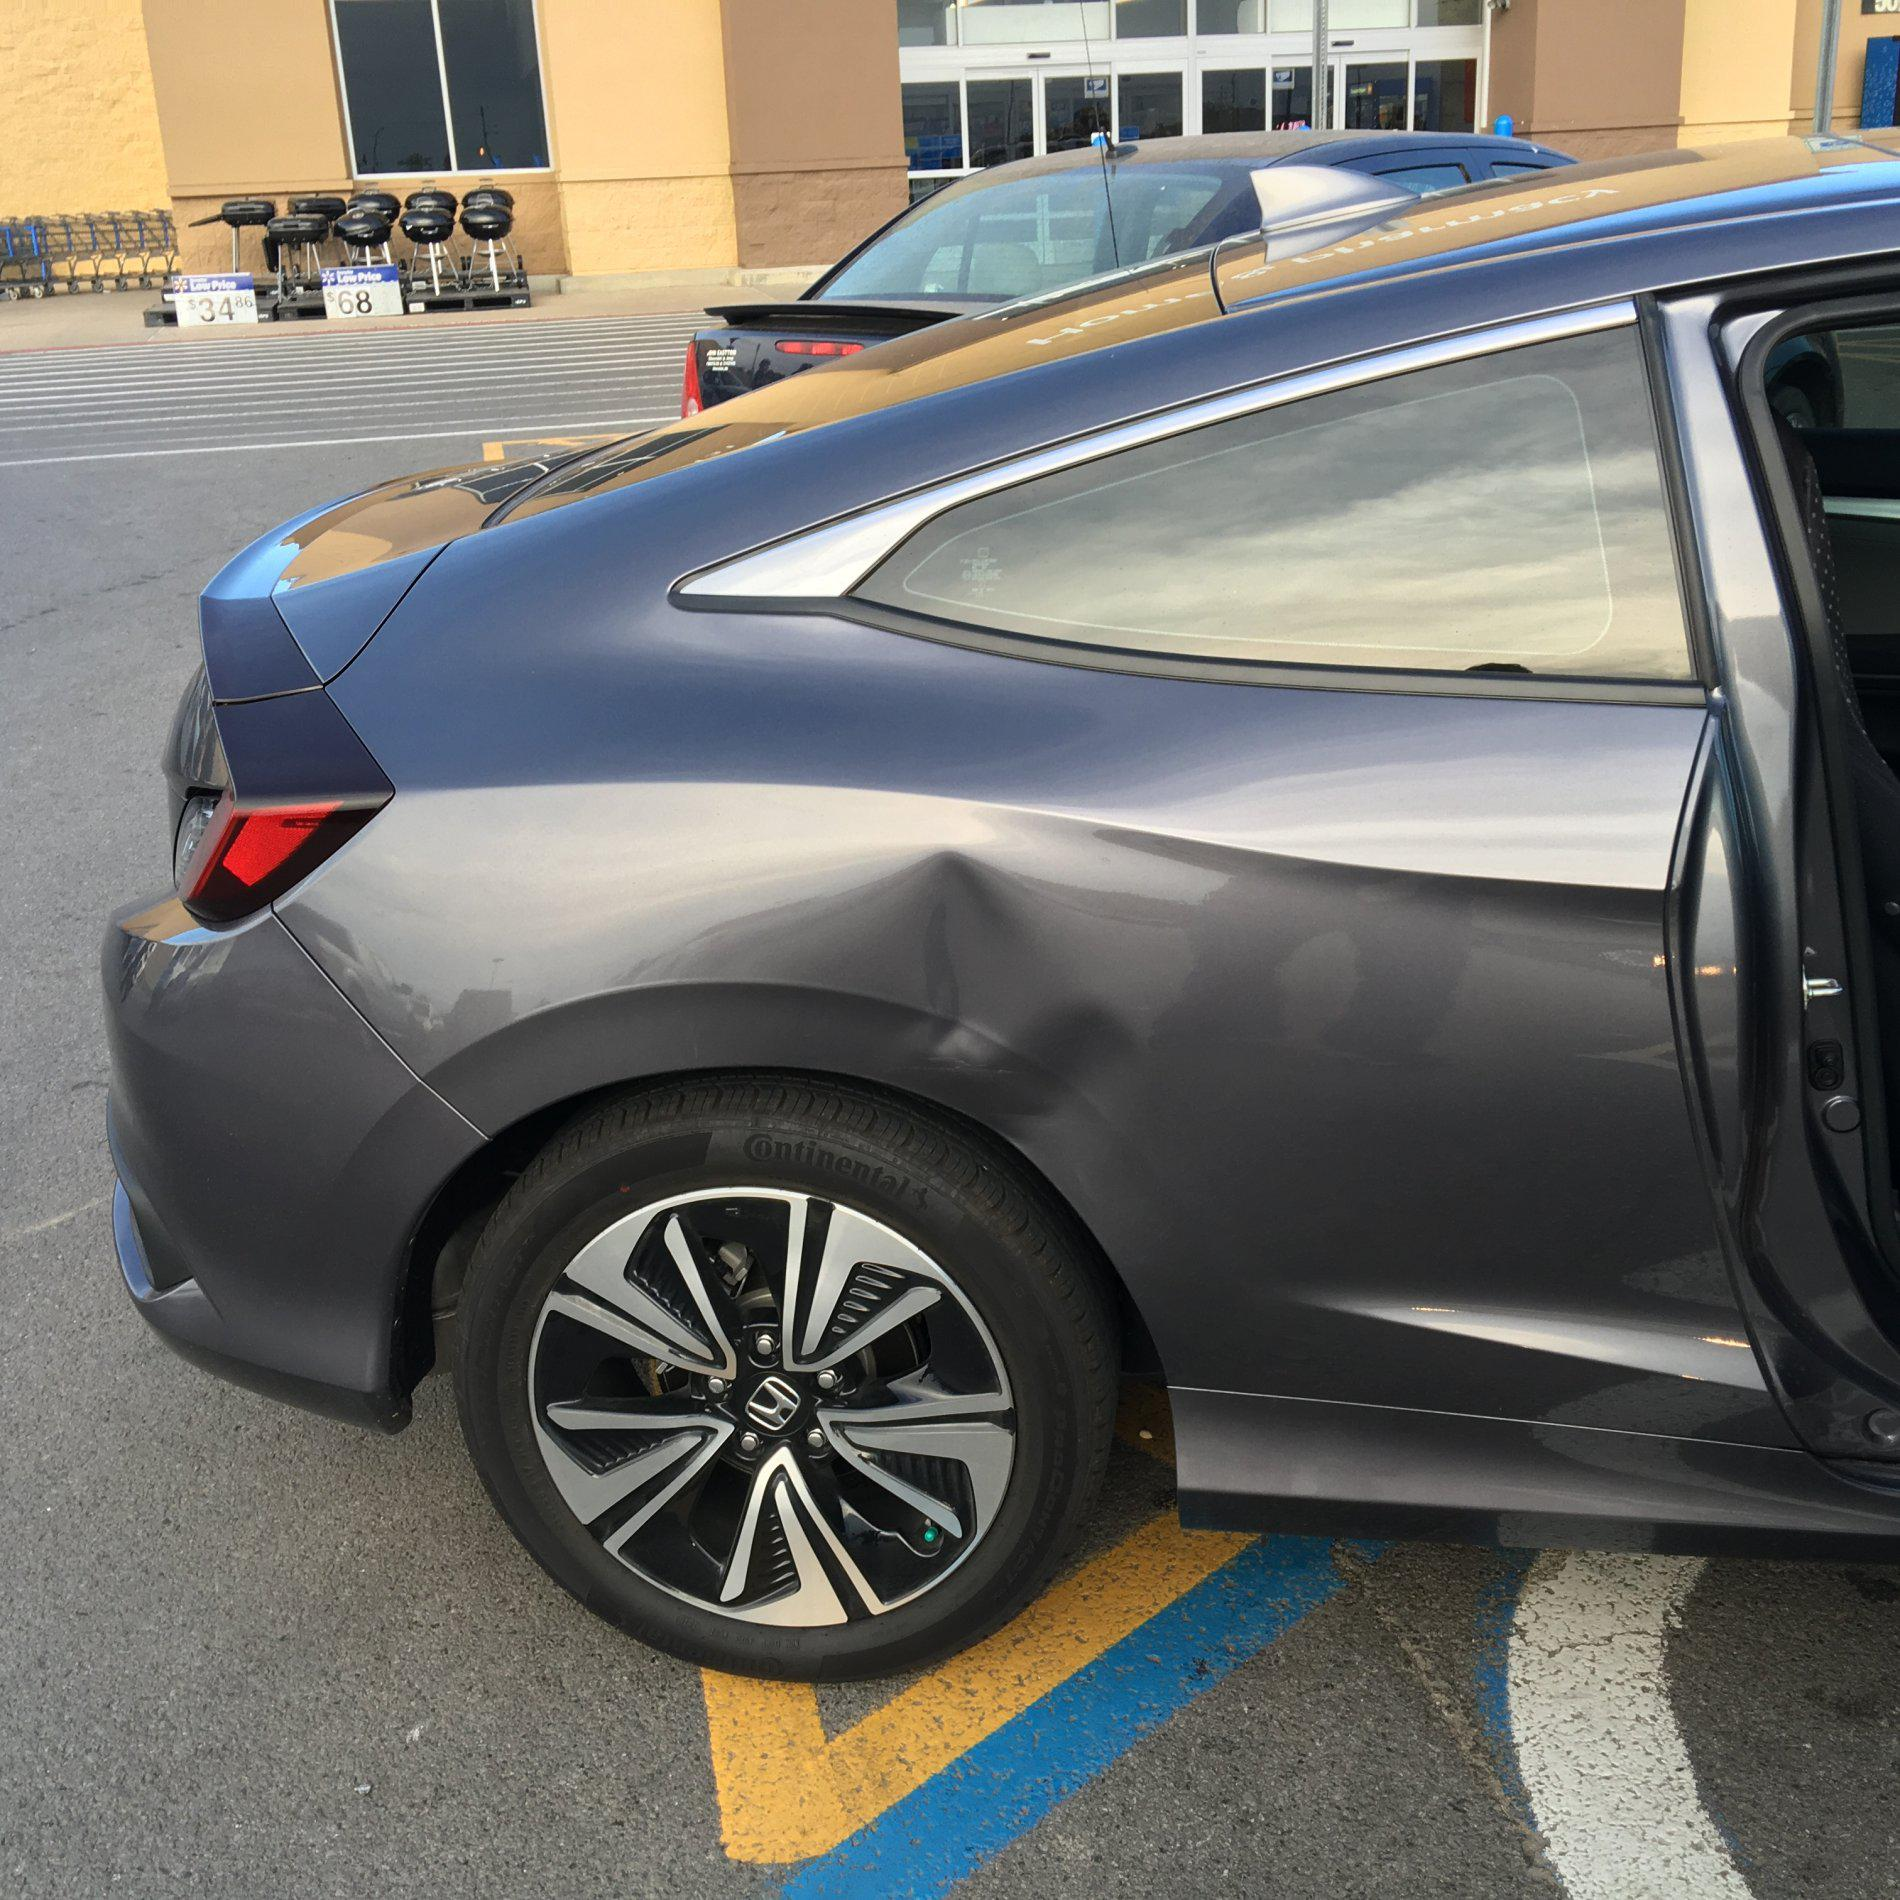Bodypanel-Dent: (1127, 137, 1127, 141)
quaterpanel-dent: (461, 684, 1670, 1265)
